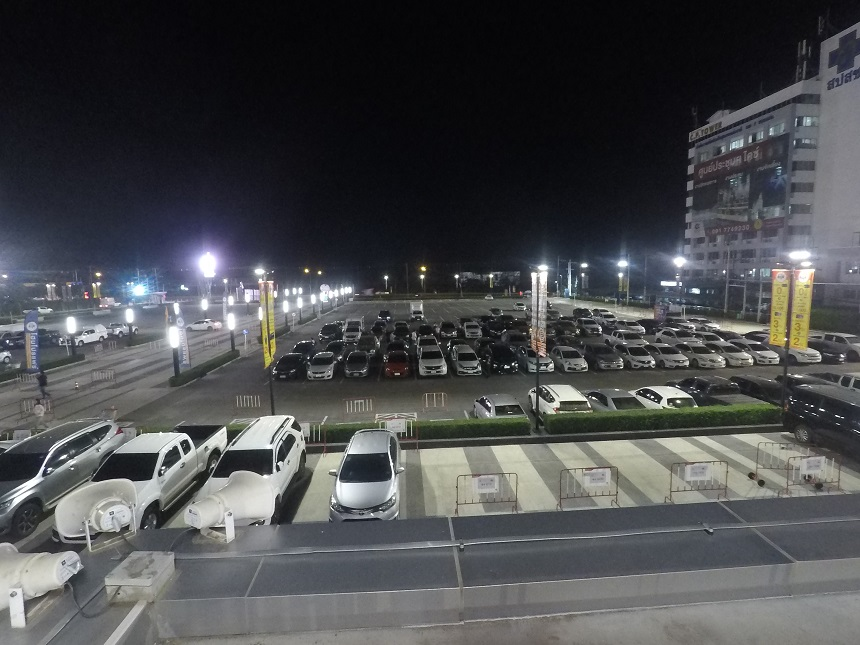busy: (117, 448, 201, 491), (15, 438, 83, 481), (332, 463, 398, 506), (226, 434, 290, 475), (795, 397, 853, 432), (683, 374, 736, 400), (538, 388, 583, 408), (647, 382, 679, 404), (485, 357, 520, 377), (481, 398, 520, 415), (595, 349, 623, 372), (790, 348, 822, 367), (597, 388, 630, 406), (306, 358, 334, 379), (343, 355, 371, 376), (386, 357, 411, 380), (417, 359, 448, 377), (451, 357, 480, 376), (830, 374, 860, 392), (664, 350, 689, 371), (750, 377, 777, 394), (274, 360, 300, 376), (530, 358, 555, 374), (561, 358, 587, 373), (699, 352, 724, 367), (631, 353, 655, 368), (732, 350, 753, 365), (785, 374, 810, 386), (759, 349, 778, 364), (834, 334, 856, 343), (828, 351, 845, 360)
